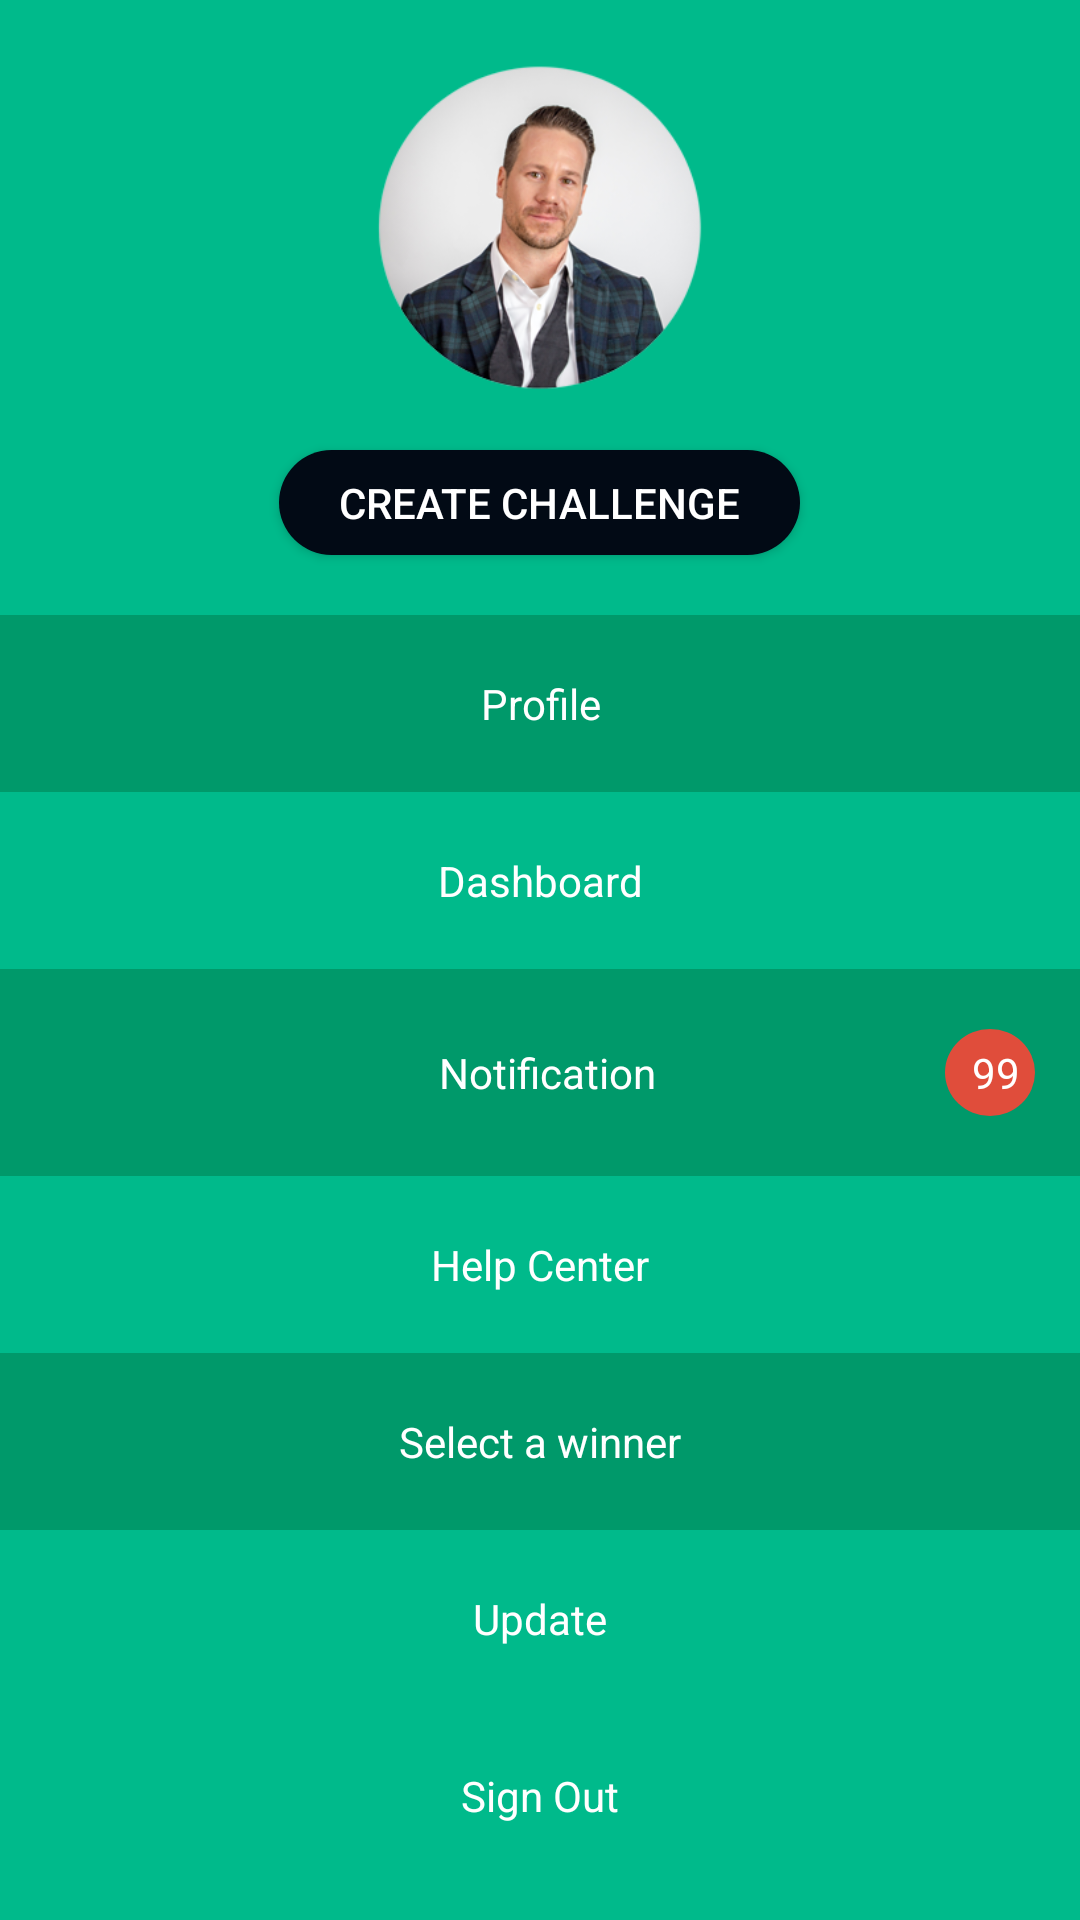

Icons on this 1080×1920 Android screen, each with the point to tap as point (x, y):
profile: point (539, 227)
